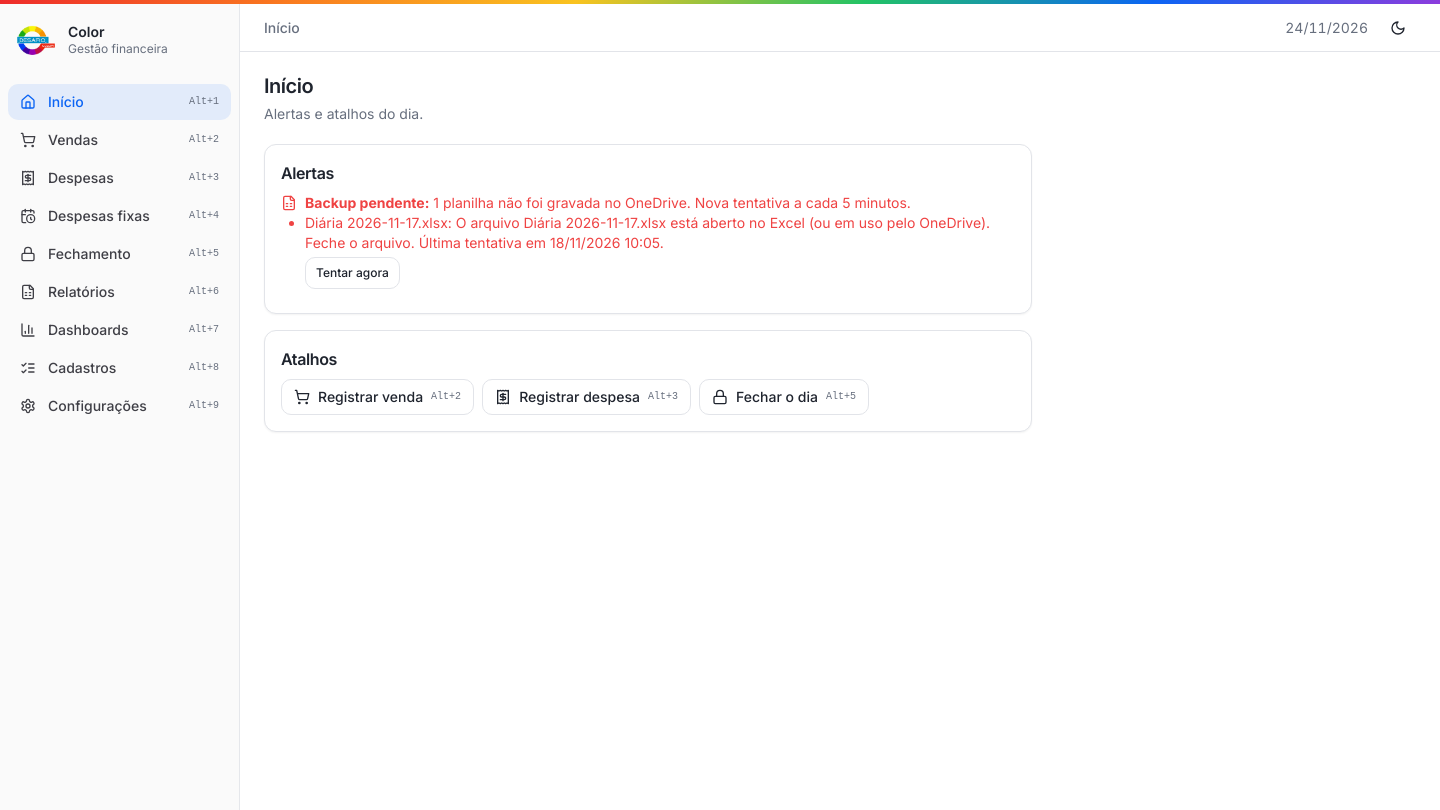
it: FR-30: Início shows the exports that could not be written › FR-30: Tentar agora retries now, and the alert goes away when it works
Click the button "Tentar agora". click: (352, 273)
box: [305, 257, 400, 289]
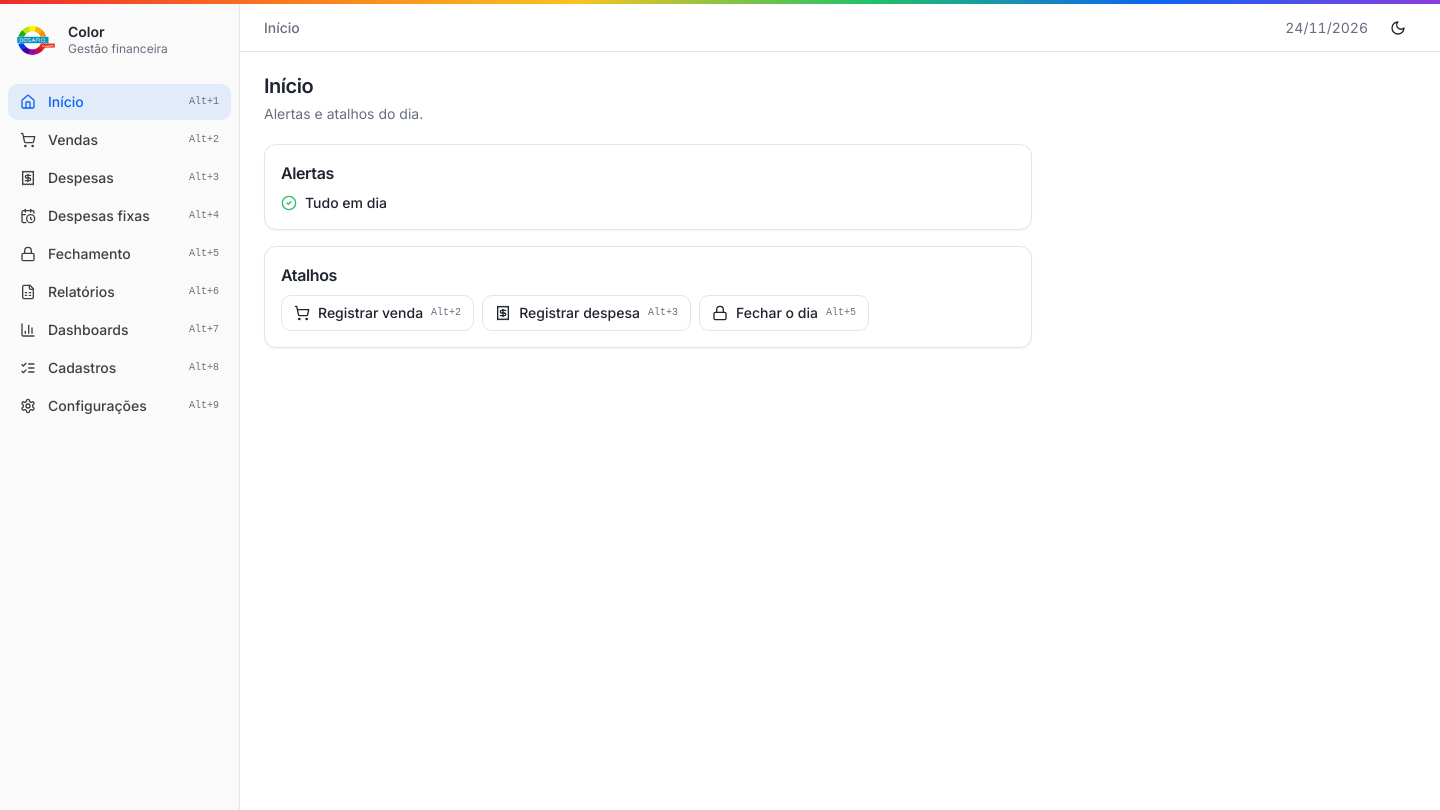
Expected: the text "Backup pendente" is gone
